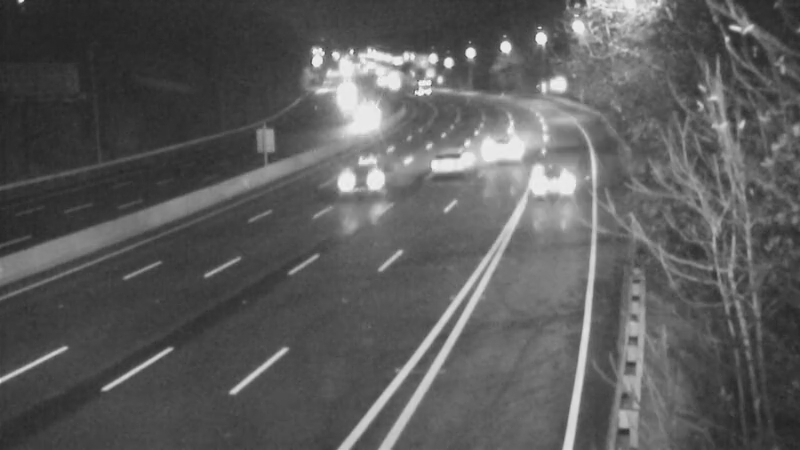vehicle: (514, 138, 594, 218), (415, 121, 495, 201), (312, 141, 392, 221), (394, 64, 444, 114), (479, 117, 529, 167), (339, 94, 389, 144), (320, 64, 370, 114)
